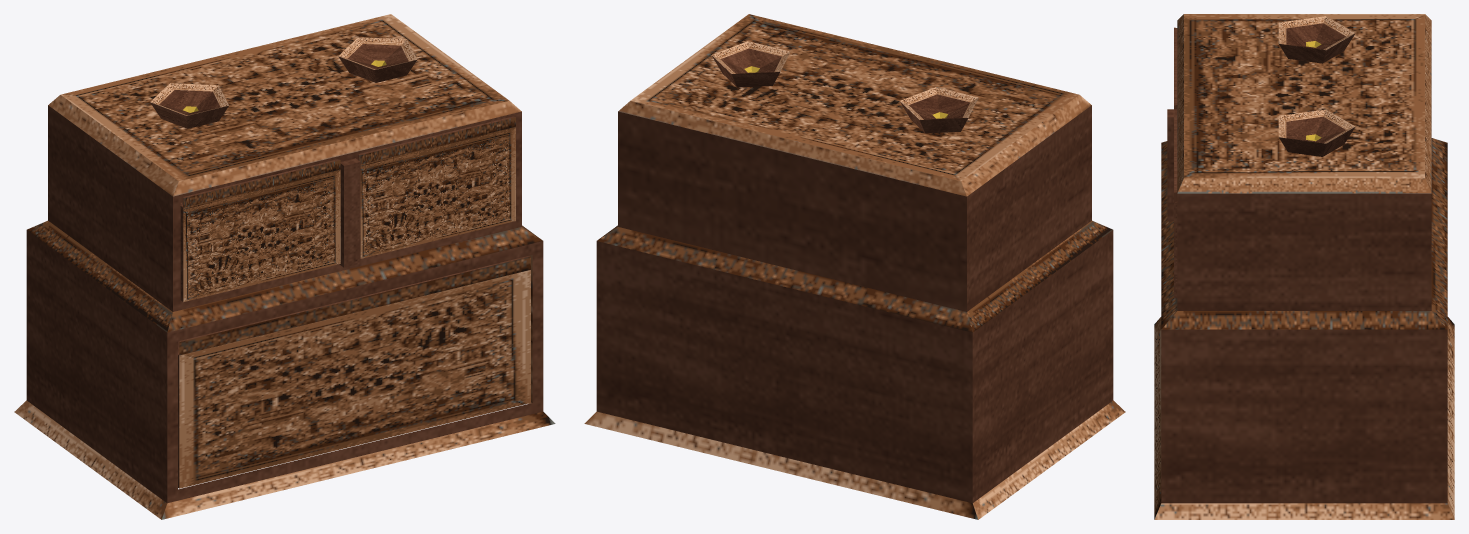
File: JewelryBox.fbx
The picture shows the model from 3 angles, left to right: view 1: azimuth 30°, elevation 25°; view 2: azimuth 150°, elevation 25°; view 3: azimuth 270°, elevation 25°; orthographic projection.
Parts seen in each view (by area): view 1: BoxJewelry, Box3, Box1, Box2; view 2: BoxJewelry; view 3: BoxJewelry, Box2.
Part boxes in pixels (left/top/right/bottom): BoxJewelry: left=14, top=14, right=555, bottom=519; Box3: left=178, top=256, right=530, bottom=488; Box1: left=180, top=159, right=340, bottom=301; Box2: left=358, top=116, right=515, bottom=258; BoxJewelry: left=584, top=14, right=1125, bottom=519; BoxJewelry: left=1154, top=14, right=1454, bottom=519; Box2: left=1174, top=114, right=1177, bottom=298.
Size of the model in its own units: 1.47 by 1.2 by 0.95.
